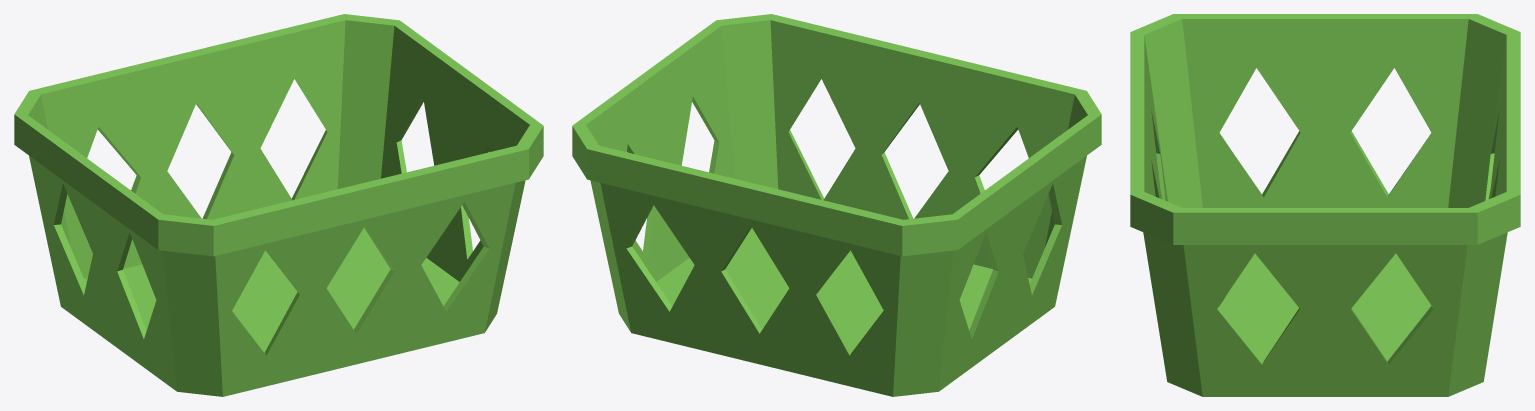
File: SM_Cook_Basket_Green_01.glb
3 views of the same model, side by side, from view 1: azimuth 30°, elevation 25°; view 2: azimuth 150°, elevation 25°; view 3: azimuth 270°, elevation 25° (orthographic). The views are drawn at different scales.
Visible parts, largest first — view 1: SM_Cook_Basket_Green_01; view 2: SM_Cook_Basket_Green_01; view 3: SM_Cook_Basket_Green_01.
Boxes of the visible parts, box(x1,y1,x2,y2) form: SM_Cook_Basket_Green_01: box(14, 14, 543, 396); SM_Cook_Basket_Green_01: box(572, 14, 1101, 396); SM_Cook_Basket_Green_01: box(1130, 14, 1520, 396).
Size of the model in its own units: 0.318 by 0.15 by 0.2638.
Materials: 1 (1 with a texture image).
